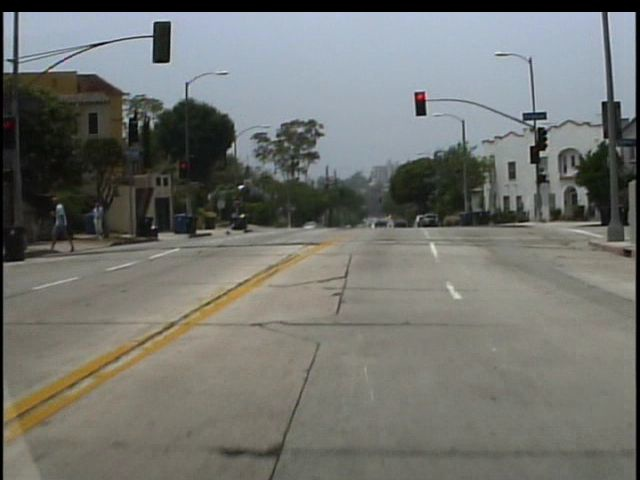person: (52, 192, 79, 252), (97, 201, 111, 242)
